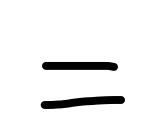eqv: (41, 62, 125, 109)
